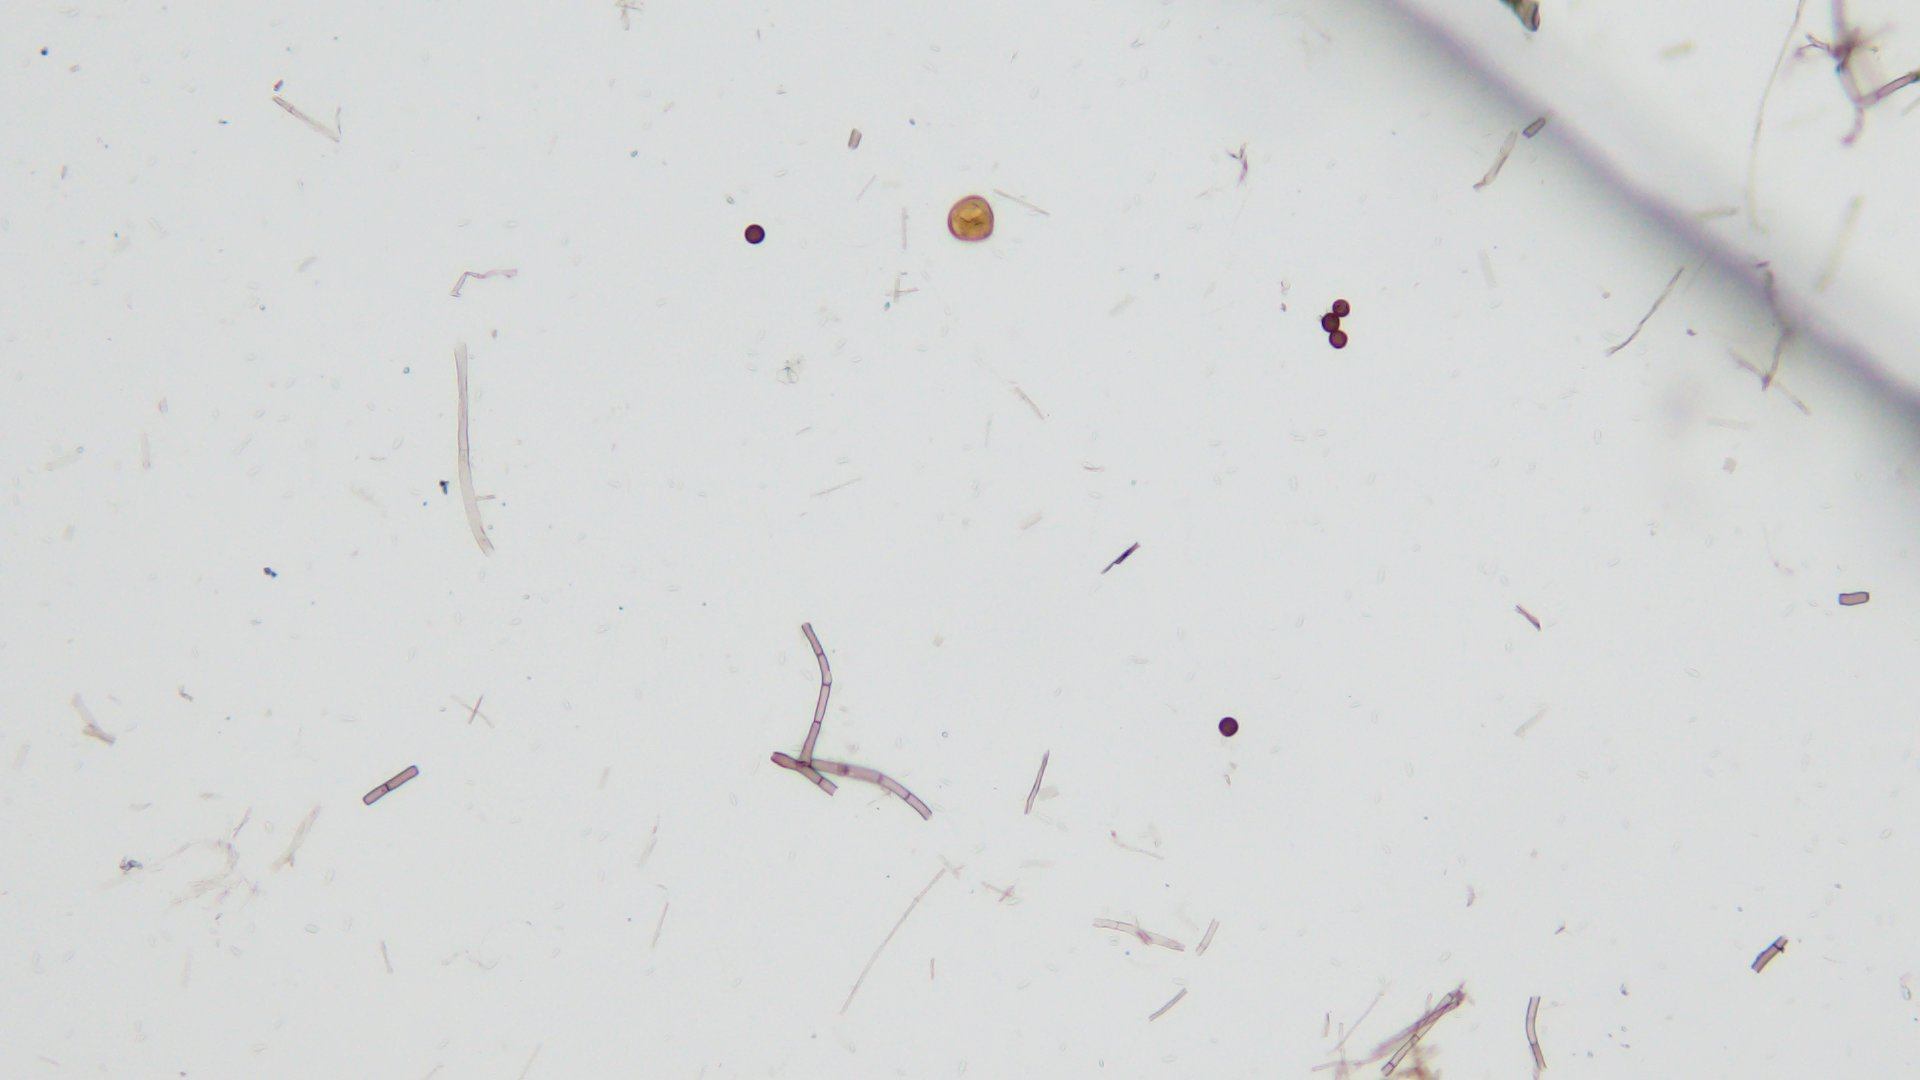shs_spore: (948, 196, 1000, 243), (1217, 713, 1241, 738), (1332, 297, 1352, 316), (1331, 330, 1349, 349), (746, 225, 766, 243), (1319, 314, 1340, 330)
